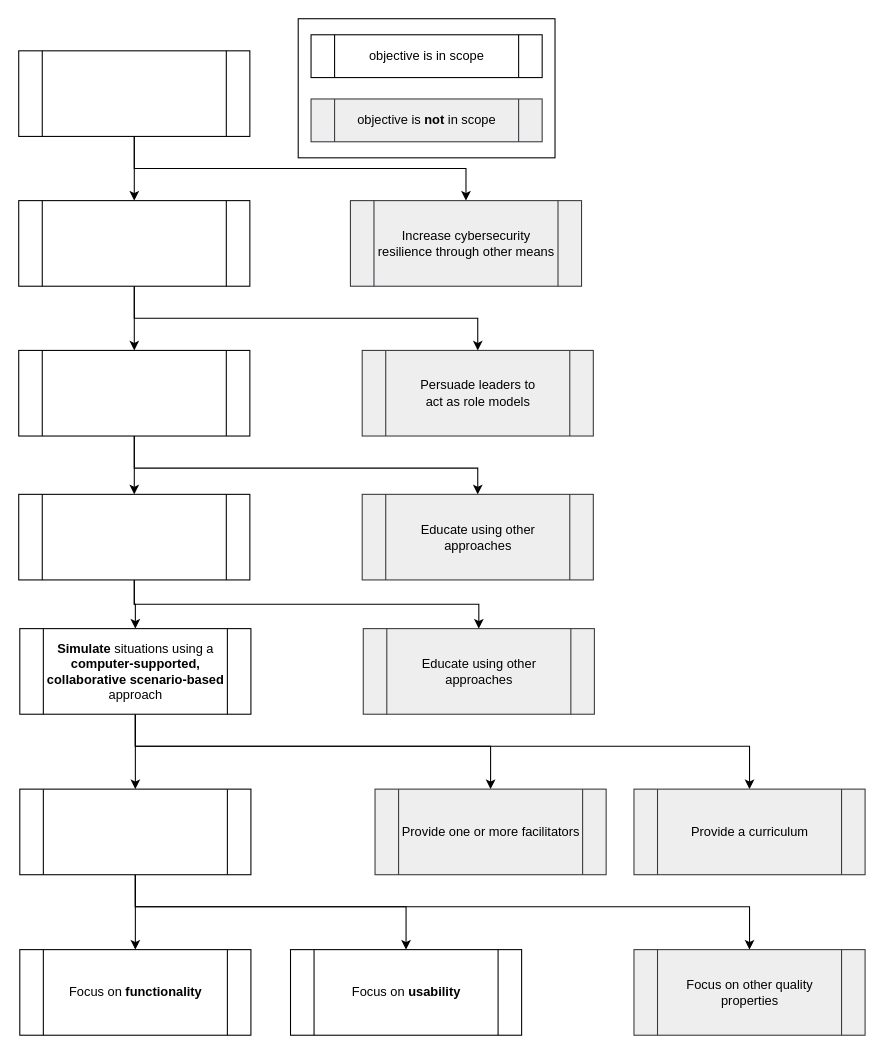
This 884x1054 diagram has some shape labels left out. Here are the shapes that lost their labels. From the top down, the centre of each, then its label:
At point 134,93: "Develop a culture of cybersecurity awareness within an organization".
At point 134,243: "Have leaders serve as role models".
At point 134,392: "Empower leaders to act as role models".
At point 134,536: "Educate Leaders on how to behave in certain situations.".
At point 135,831: "Provide a platform for conducting trainings".
